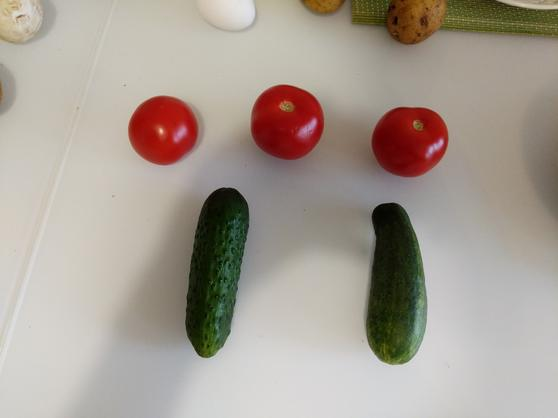cucumber: (186, 187, 251, 355), (365, 202, 426, 366)
tomato: (371, 103, 450, 176), (251, 83, 326, 159), (129, 95, 197, 166)
